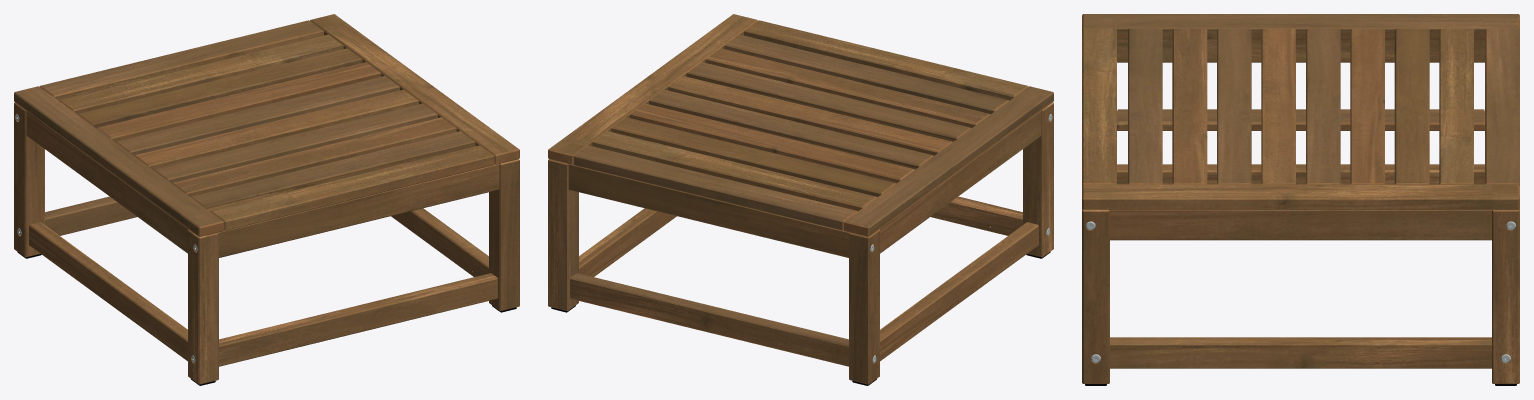
File: nammaro_sekcja_siedz_sofy_moduowej_ogr_10510299.glb
3 renders of one model, left to right at view 1: azimuth 30°, elevation 25°; view 2: azimuth 150°, elevation 25°; view 3: azimuth 270°, elevation 25°, orthographic. The views are drawn at different scales.
Visible parts, largest first — view 1: nammaro_sekcja_siedz_sofy_moduowej_ogr_10510299; view 2: nammaro_sekcja_siedz_sofy_moduowej_ogr_10510299; view 3: nammaro_sekcja_siedz_sofy_moduowej_ogr_10510299.
Boxes of the visible parts, box(x1,y1,x2,y2) form: nammaro_sekcja_siedz_sofy_moduowej_ogr_10510299: box(14, 14, 519, 385); nammaro_sekcja_siedz_sofy_moduowej_ogr_10510299: box(548, 14, 1053, 385); nammaro_sekcja_siedz_sofy_moduowej_ogr_10510299: box(1082, 14, 1519, 385).
Size of the model in its own units: 0.63 by 0.3 by 0.63.
1 material, 1 textured.
